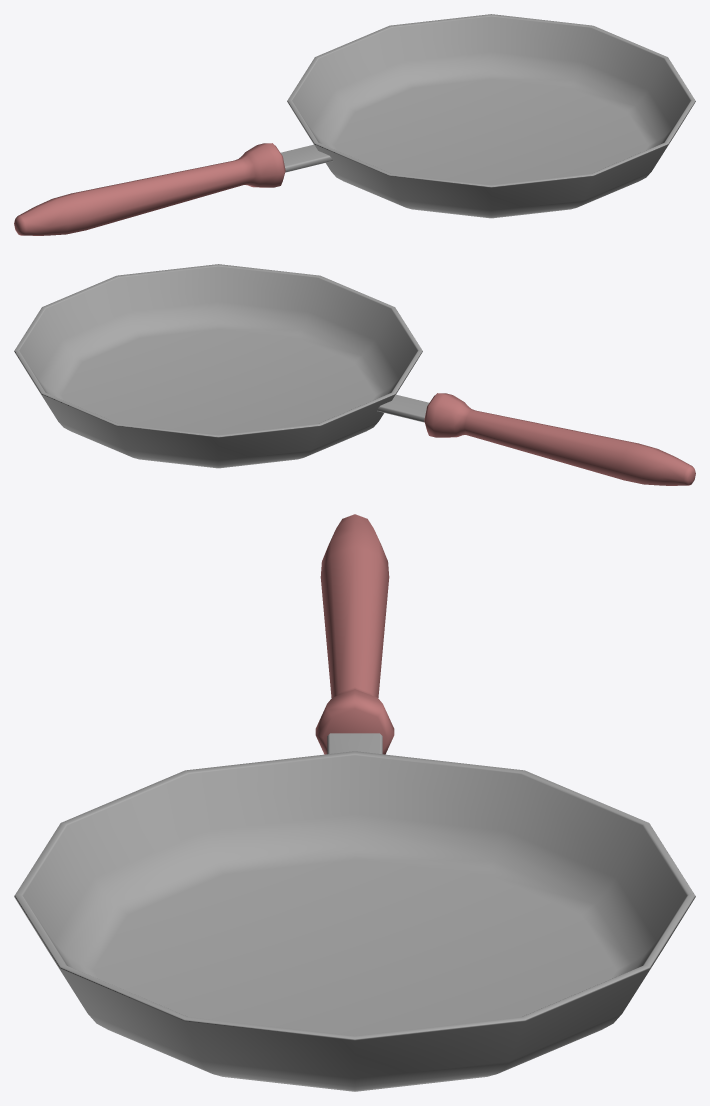
File: Pan_1.glb
3 renders of one model, top to bottom at view 1: azimuth 30°, elevation 25°; view 2: azimuth 150°, elevation 25°; view 3: azimuth 270°, elevation 25°, orthographic. The views are drawn at different scales.
Visible parts, largest first — view 1: Pan_1; view 2: Pan_1; view 3: Pan_1.
Part boxes in pixels (x1,y1,x2,y2): Pan_1: (14, 14, 695, 235); Pan_1: (14, 264, 695, 485); Pan_1: (14, 514, 695, 1091).
Size of the model in its own units: 0.5056 by 0.0457 by 0.275.
1 material, 1 textured.
